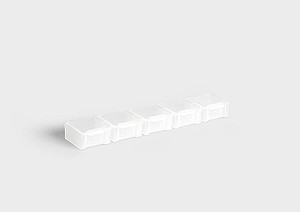PlasticBox: (62, 90, 231, 150)
